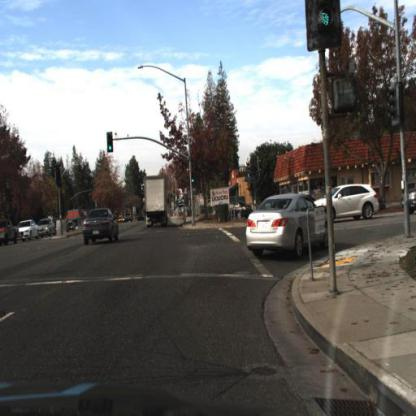car: (243, 185, 328, 269), (245, 190, 331, 258), (325, 172, 382, 229), (73, 198, 126, 257), (17, 213, 40, 244), (1, 217, 22, 248), (229, 196, 256, 220), (38, 214, 57, 246), (135, 207, 149, 226), (123, 209, 135, 227)
trafficLight-Green: (187, 169, 201, 192), (104, 138, 117, 161), (187, 172, 194, 189)
truck: (139, 170, 172, 235)
